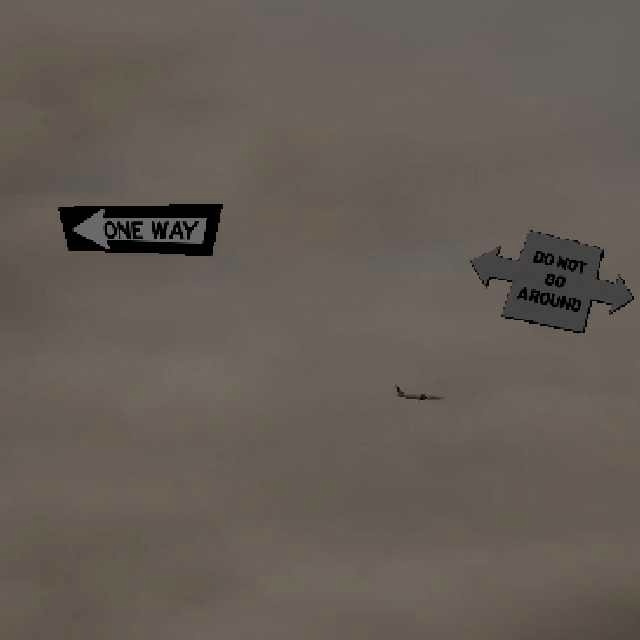DO_NOT_GO_AROUND: (468, 228, 633, 332)
ONE_WAY_ left: (56, 202, 221, 254)
